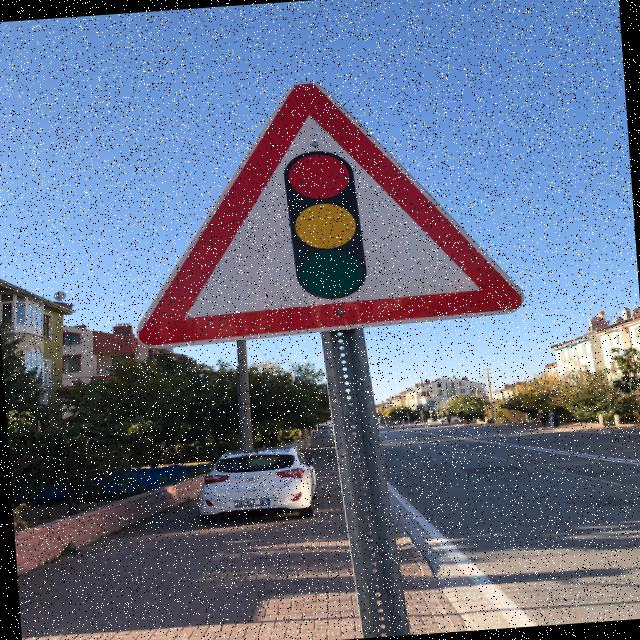light_traffic: (112, 63, 522, 354)
